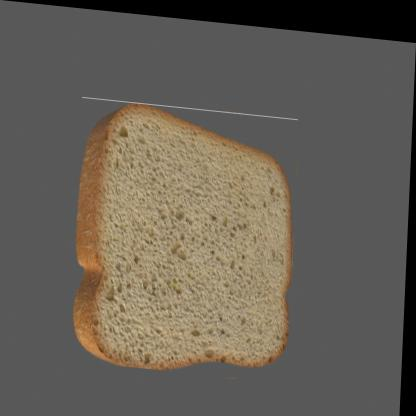bread: (73, 95, 300, 378)
